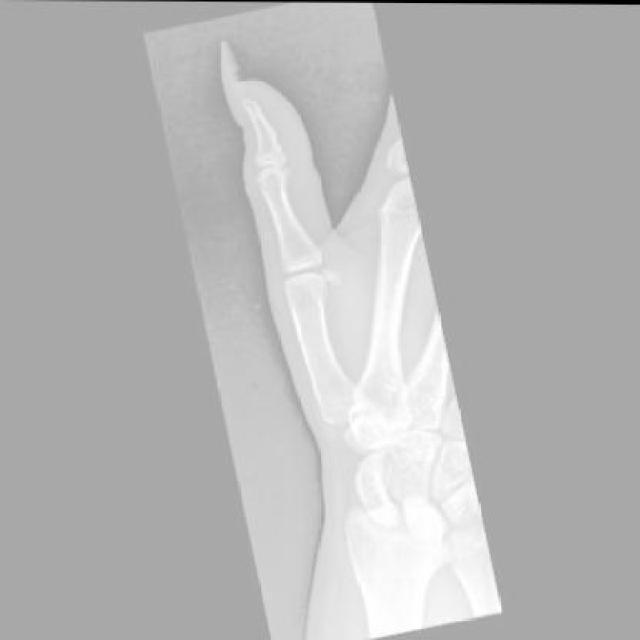Fracture: (309, 262, 343, 295)
